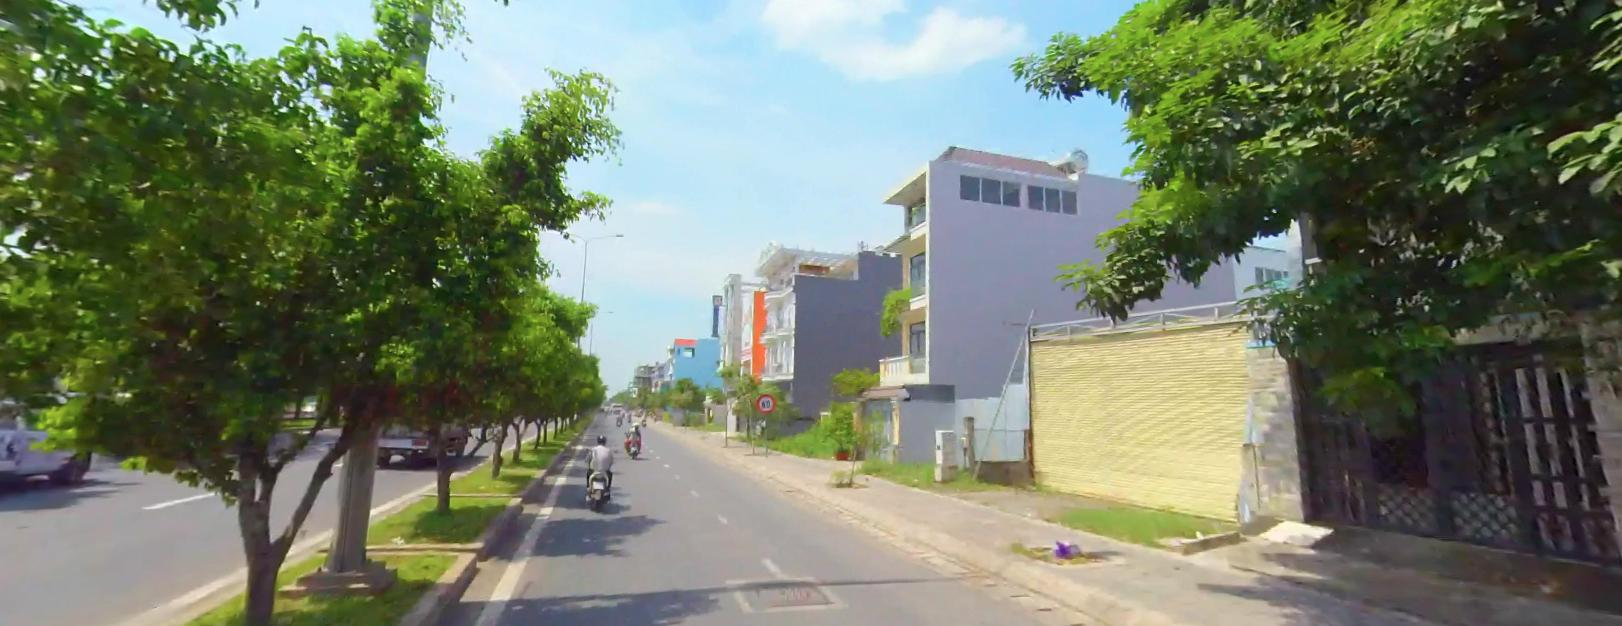Gioi han toc do: (755, 392, 775, 411)
